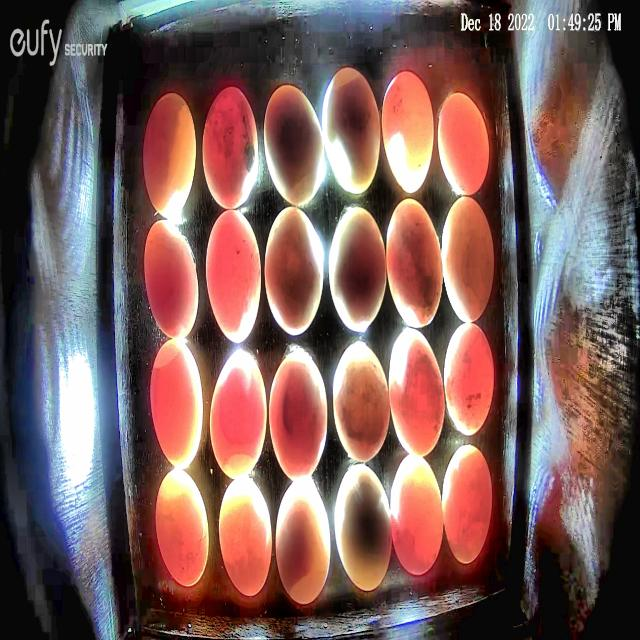DE: (268, 349, 328, 481), (264, 206, 323, 335), (205, 208, 261, 342), (209, 350, 266, 480), (387, 197, 443, 329), (263, 84, 324, 205), (333, 465, 392, 590), (329, 207, 386, 333), (324, 68, 381, 194), (275, 477, 331, 605), (389, 328, 444, 457), (332, 342, 390, 464), (202, 87, 259, 210), (151, 340, 203, 470), (144, 219, 199, 339), (442, 197, 494, 323), (390, 455, 444, 575), (381, 71, 434, 193), (145, 94, 196, 220), (218, 477, 272, 596), (154, 472, 209, 587), (442, 445, 492, 565), (444, 323, 494, 436), (438, 94, 490, 195)
